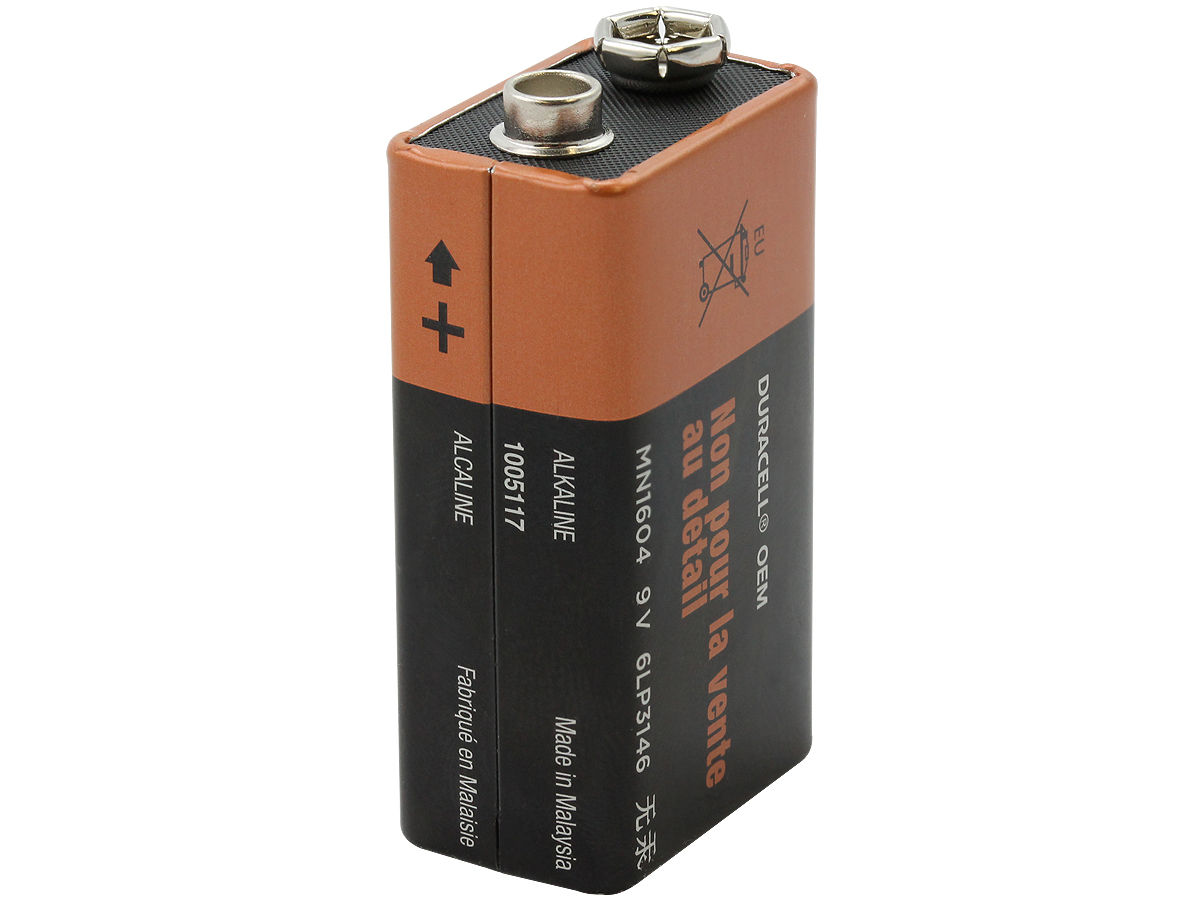9V: (359, 18, 846, 895)
